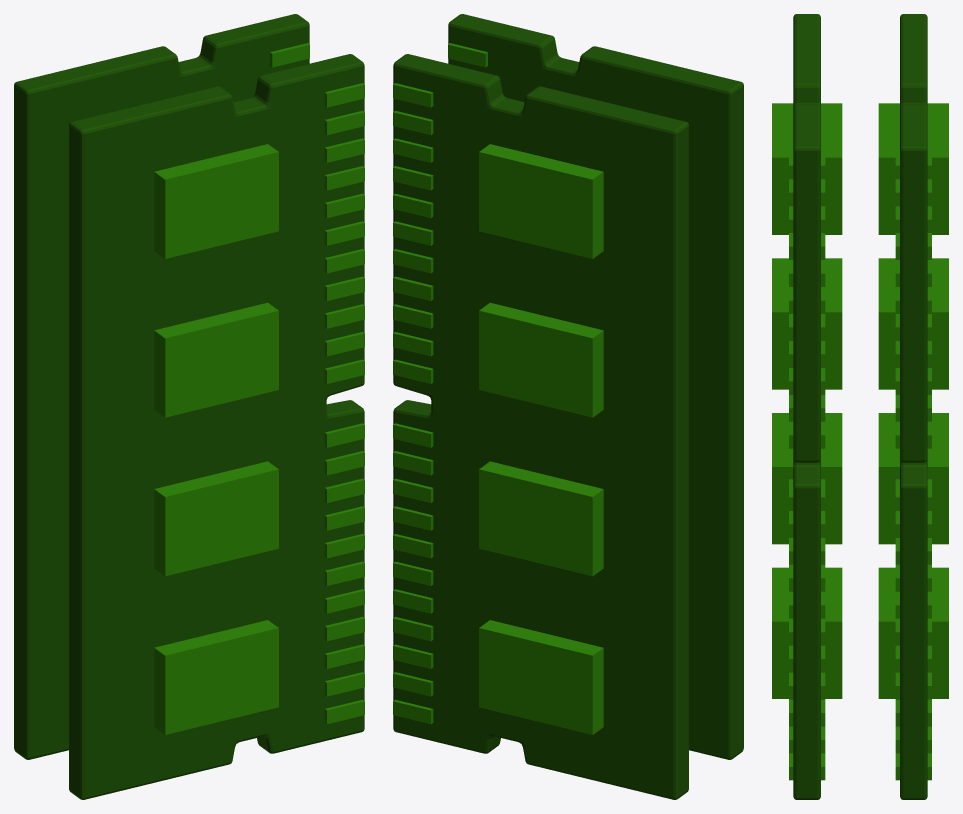
Rendered from RAM_Failed.fbx.
The picture shows the model from 3 angles, left to right: view 1: azimuth 30°, elevation 25°; view 2: azimuth 150°, elevation 25°; view 3: azimuth 270°, elevation 25°; orthographic projection. The views are drawn at different scales.
Parts seen in each view (by area): view 1: RAM.001; view 2: RAM.001; view 3: RAM.001.
Boxes of the visible parts, x1,y1,x2,y2 form: RAM.001: (14,14,364,799); RAM.001: (393,14,743,799); RAM.001: (772,14,948,799).
Size of the model in its own units: 15 by 33.79 by 8.29.
